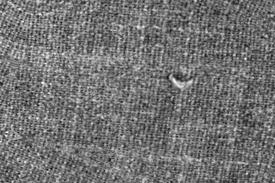snag: (165, 70, 206, 93)
